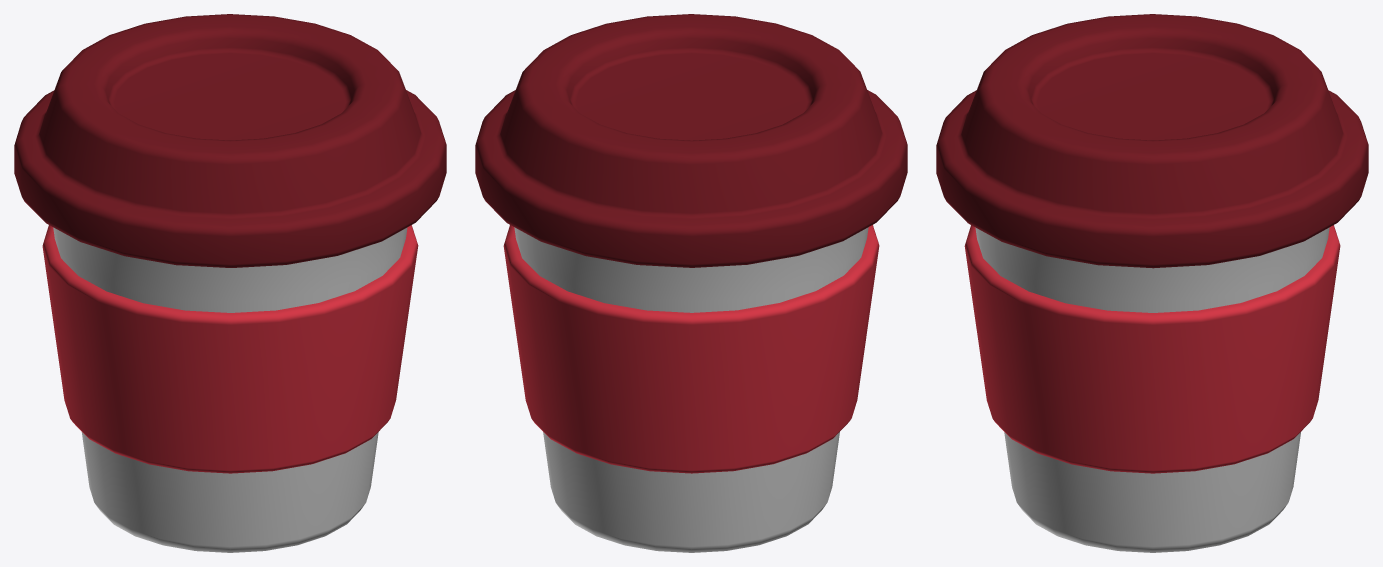
The model's file is cafe_pink.fbx.
3 views of the same model, side by side, from view 1: azimuth 30°, elevation 25°; view 2: azimuth 150°, elevation 25°; view 3: azimuth 270°, elevation 25° (orthographic).
Parts seen in each view (by area): view 1: polySurface138, box4_inner3; view 2: polySurface138, box4_inner3; view 3: polySurface138, box4_inner3.
Boxes of the visible parts, x1,y1,x2,y2 form: polySurface138: (42,225,418,552); box4_inner3: (14,14,446,267); polySurface138: (503,225,879,552); box4_inner3: (475,14,907,267); polySurface138: (964,225,1340,552); box4_inner3: (936,14,1368,268).
Size of the model in its own units: 3.77 by 4 by 3.77.
